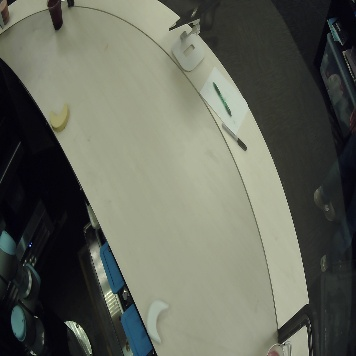full_cup: (38, 1, 71, 33), (1, 1, 12, 24)
puck: (143, 294, 172, 343), (45, 103, 73, 136)
